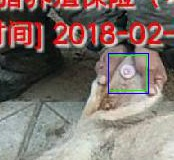text: (108, 55, 146, 90)
